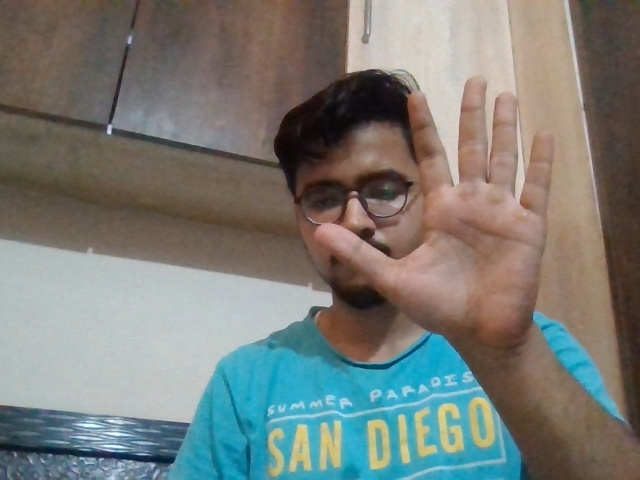hello: (314, 81, 578, 343)
